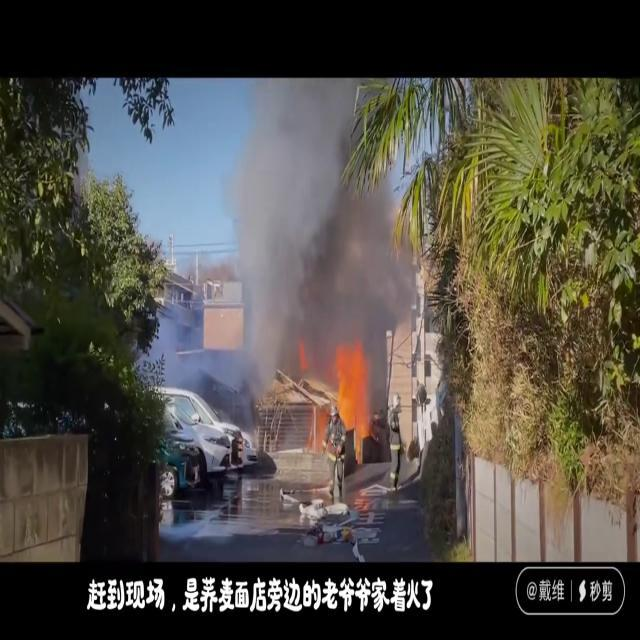Fire: (332, 340, 374, 442)
Smoke: (218, 80, 424, 382)
